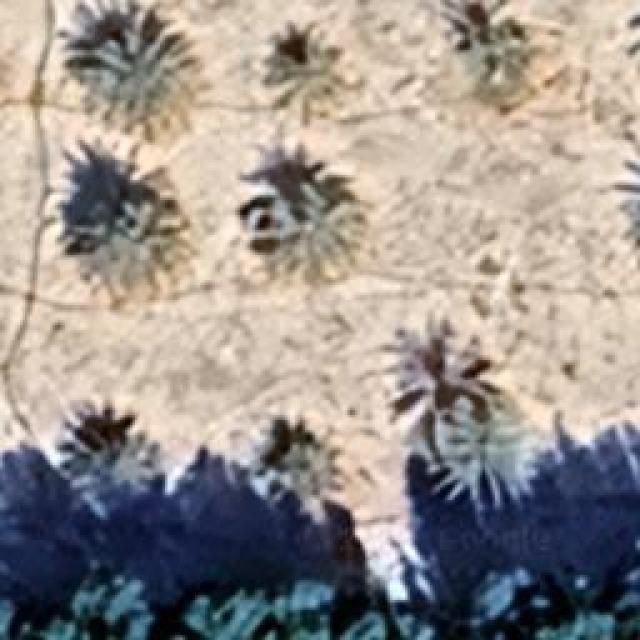PalmTree: (78, 98, 294, 462), (13, 120, 78, 534), (232, 145, 350, 270), (424, 378, 538, 490), (436, 8, 546, 104), (266, 22, 366, 116), (58, 435, 162, 515), (76, 171, 162, 264), (100, 15, 200, 80), (615, 146, 640, 278), (0, 479, 17, 602), (623, 180, 640, 282)
